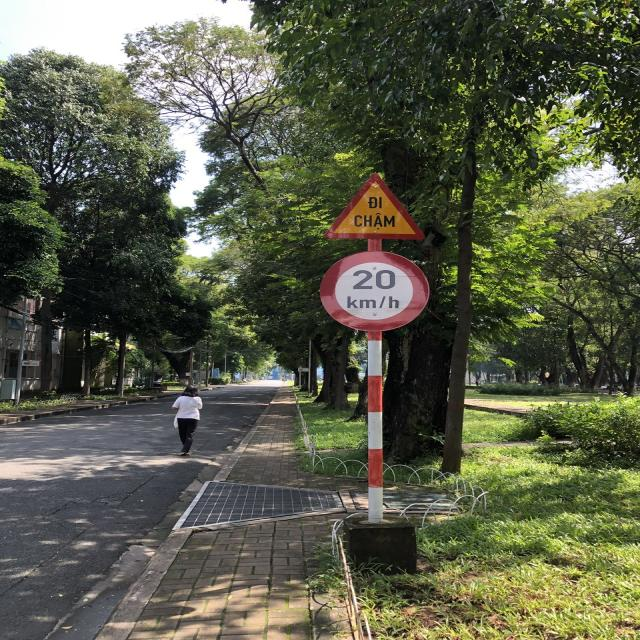Bien bao di cham: (322, 168, 430, 242)
Bien bao toc do toi da cho phep: (312, 247, 432, 339)
